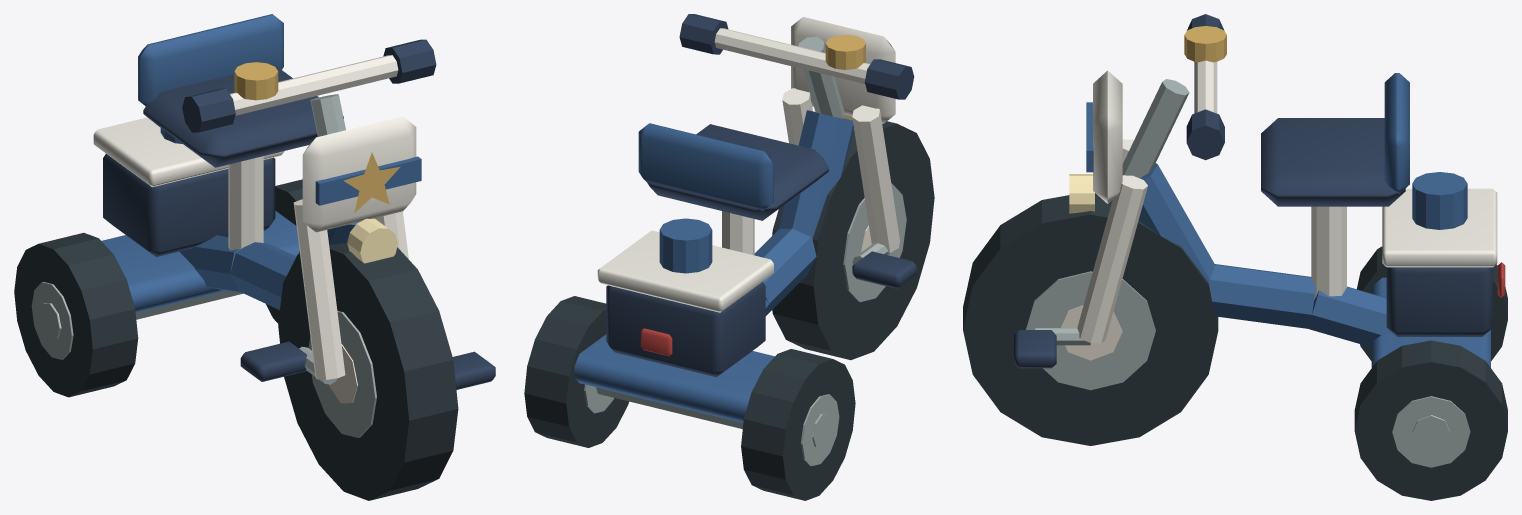
The model's file is komachi-police-bicycle.glb.
The picture shows the model from 3 angles, left to right: view 1: azimuth 30°, elevation 25°; view 2: azimuth 150°, elevation 25°; view 3: azimuth 270°, elevation 25°; orthographic projection. The views are drawn at different scales.
Visible parts, largest first — view 1: Wheel_Front_Tyre, Wheel_Left_Rear_Tyre, Police_Document_Case, Police_Shield, Saddle, Seat_Back, Rear_Step, Front_Fork, Case_Lid, Wheel_Front_Hub, Handlebar, Seat_Post (+16 smaller); view 2: Wheel_Front_Tyre, Wheel_Left_Rear_Tyre, Police_Document_Case, Wheel_Right_Rear_Tyre, Rear_Step, Seat_Back, Case_Lid, Saddle, Low_Trike_Frame.002, Front_Fork, Police_Shield, Handlebar (+14 smaller); view 3: Wheel_Front_Tyre, Wheel_Right_Rear_Tyre, Saddle, Police_Document_Case, Wheel_Front_Hub, Case_Lid, Low_Trike_Frame.001, Front_Fork.001, Police_Shield, Low_Trike_Frame, Wheel_Right_Rear_Hub, Low_Trike_Frame.002 (+13 smaller).
Boxes of the visible parts, box(x1,y1,x2,y2) form: Wheel_Front_Tyre: box(278, 243, 458, 500); Wheel_Left_Rear_Tyre: box(14, 232, 138, 397); Police_Document_Case: box(103, 154, 275, 256); Police_Shield: box(302, 116, 416, 232); Saddle: box(143, 64, 343, 167); Seat_Back: box(138, 14, 283, 106); Rear_Step: box(102, 211, 299, 312); Front_Fork: box(293, 199, 345, 379); Case_Lid: box(93, 117, 284, 187); Wheel_Front_Hub: box(308, 311, 376, 437); Handlebar: box(230, 55, 398, 115); Seat_Post: box(228, 156, 263, 250); Wheel_Front_Tyre: box(772, 121, 934, 360); Wheel_Left_Rear_Tyre: box(741, 349, 855, 500); Police_Document_Case: box(606, 281, 765, 377); Wheel_Right_Rear_Tyre: box(524, 296, 628, 447); Rear_Step: box(574, 334, 774, 422); Seat_Back: box(638, 123, 773, 210); Case_Lid: box(597, 230, 773, 312); Saddle: box(647, 124, 828, 220); Low_Trike_Frame.002: box(779, 110, 853, 238); Front_Fork: box(852, 105, 899, 252); Police_Shield: box(791, 17, 895, 123); Handlebar: box(714, 28, 870, 83); Wheel_Front_Tyre: box(963, 193, 1218, 445); Wheel_Right_Rear_Tyre: box(1354, 340, 1507, 500); Saddle: box(1261, 118, 1405, 206); Police_Document_Case: box(1386, 267, 1492, 336); Wheel_Front_Hub: box(1026, 271, 1155, 390); Case_Lid: box(1382, 188, 1497, 267); Low_Trike_Frame.001: box(1208, 264, 1315, 328); Front_Fork.001: box(1077, 175, 1147, 343); Police_Shield: box(1093, 70, 1122, 203); Low_Trike_Frame: box(1307, 286, 1392, 347); Wheel_Right_Rear_Hub: box(1392, 396, 1470, 467); Low_Trike_Frame.002: box(1138, 163, 1214, 281).
Bounding box in the file's own units: 0.1034 × 0.1319 × 0.1741.
